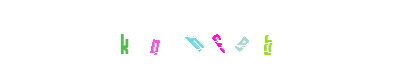0: (178, 0, 258, 80)
B: (227, 0, 307, 80)
F: (172, 0, 252, 80)
H: (165, 0, 245, 80)
K: (84, 0, 164, 80)
O: (124, 0, 204, 80)
